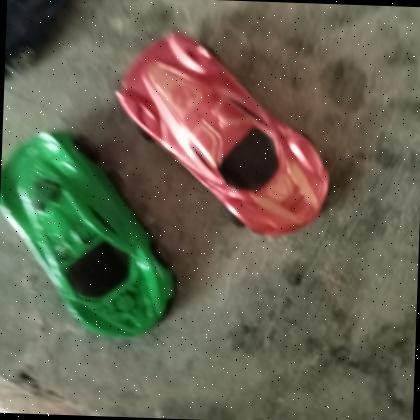Car: (113, 32, 330, 238), (0, 131, 177, 340)
